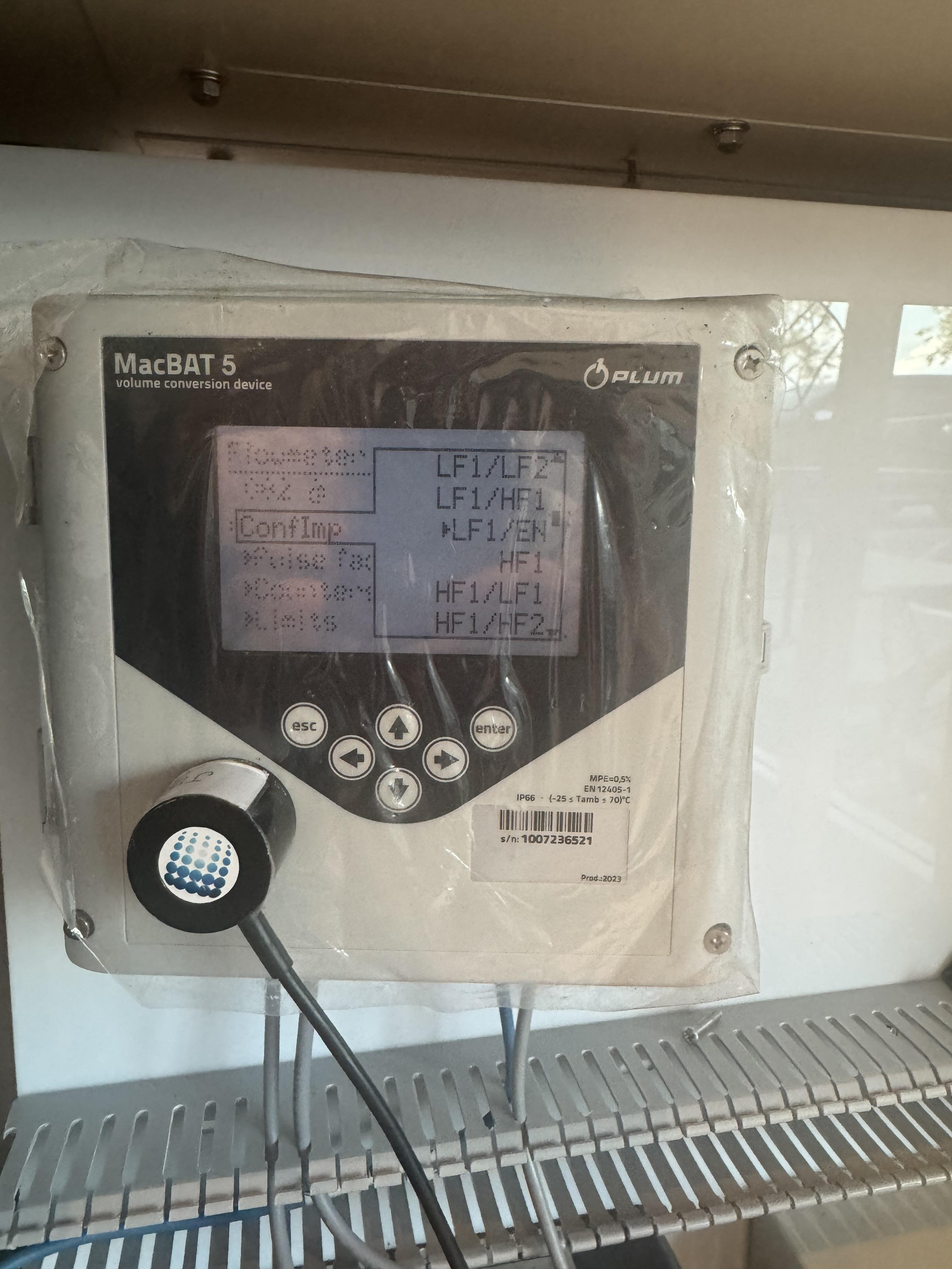digital_screen: (212, 427, 584, 655)
